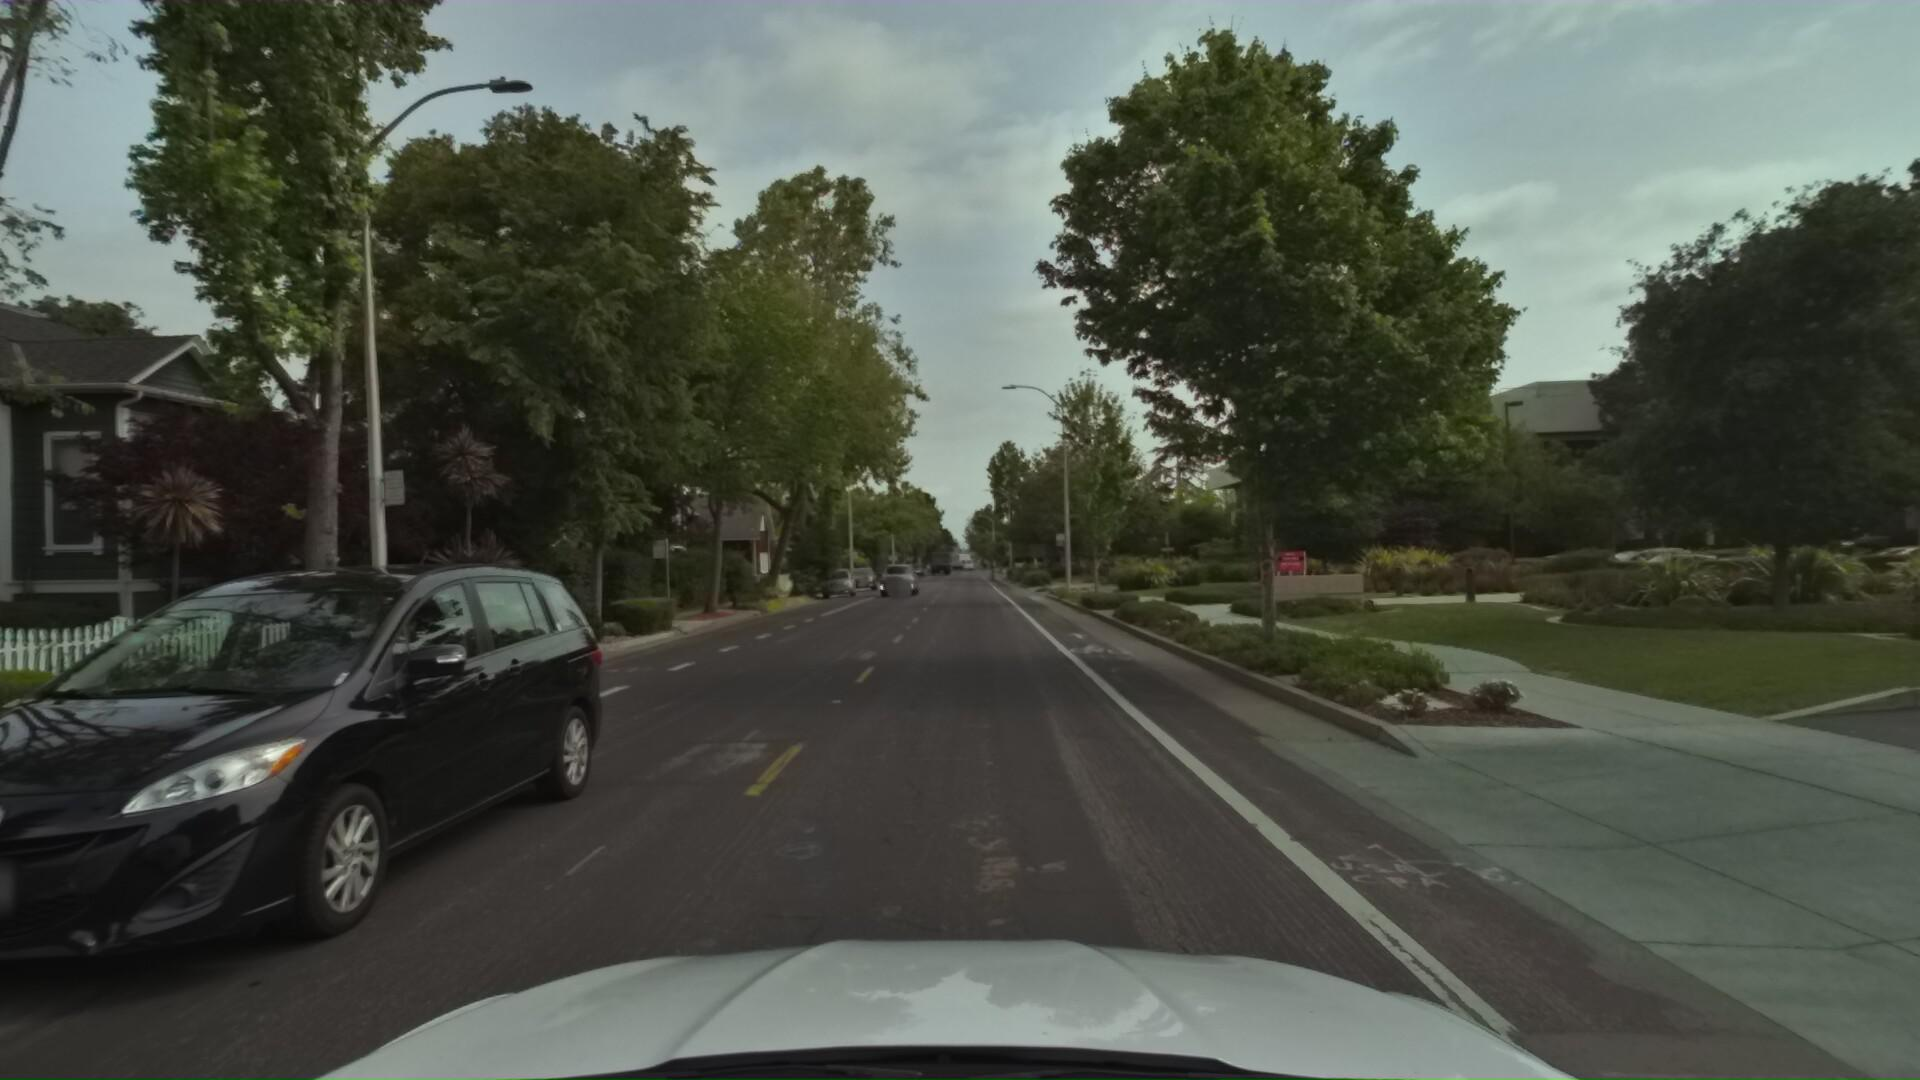car: (0, 556, 582, 1080), (153, 576, 531, 769), (873, 562, 915, 600), (816, 568, 855, 601), (841, 563, 880, 593)
